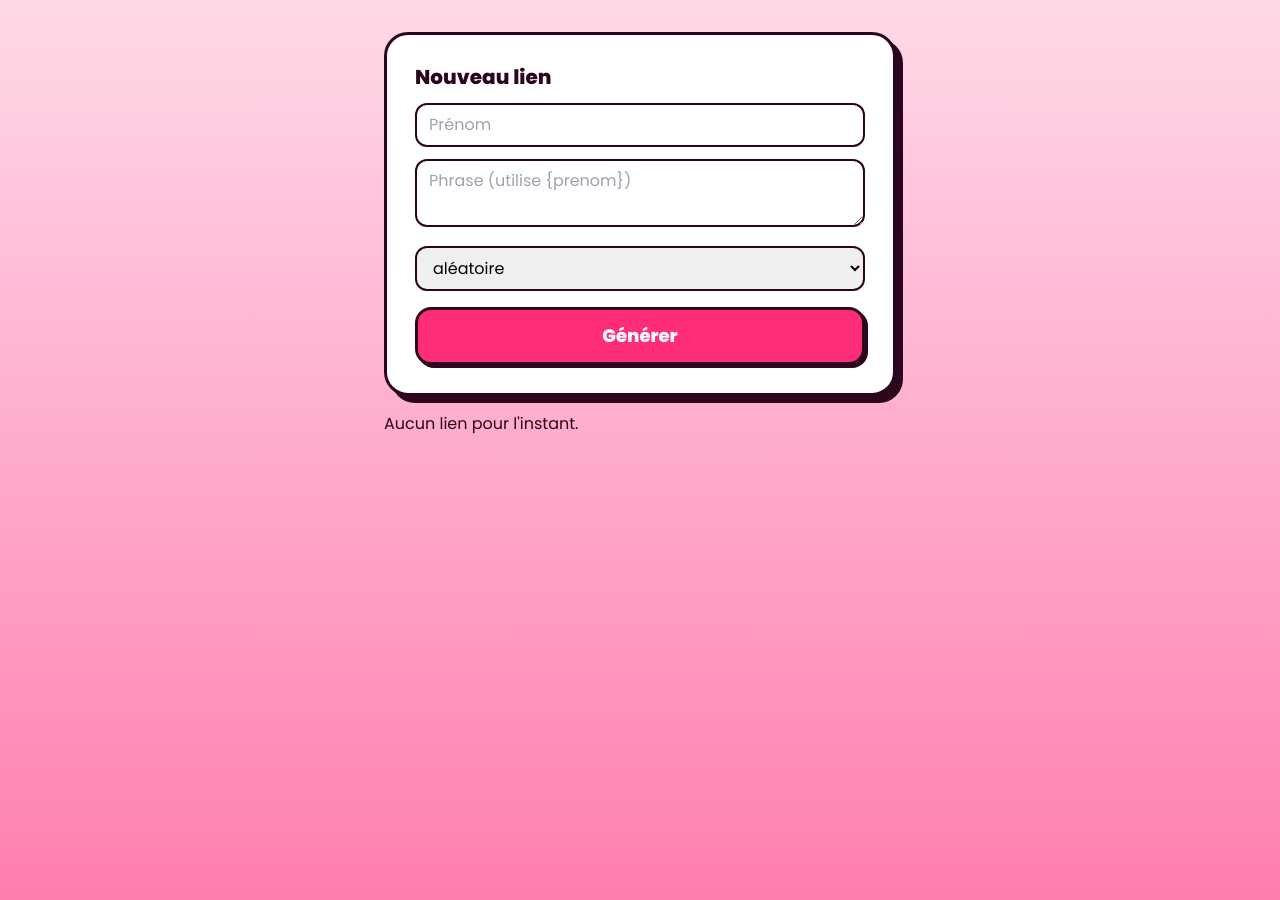
Test: AdminPage › creates a link and shows the copyable URL
This screenshot has width=1280, height=900.
Type "Lou" into the field labelled "Prénom" at point(640, 125), box [415,103,865,147]
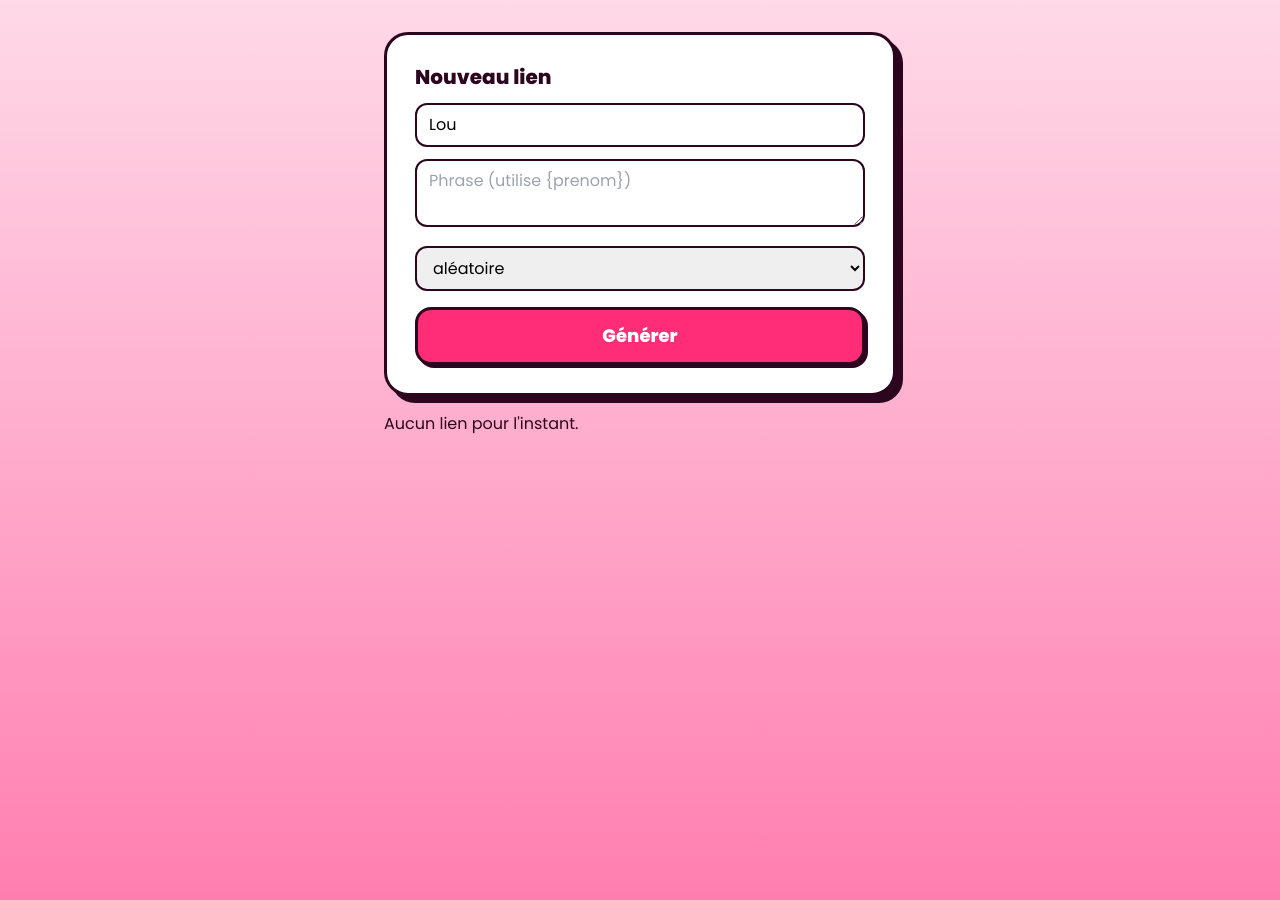
Click the button "Générer" at point(640, 336), box [415,307,865,365]
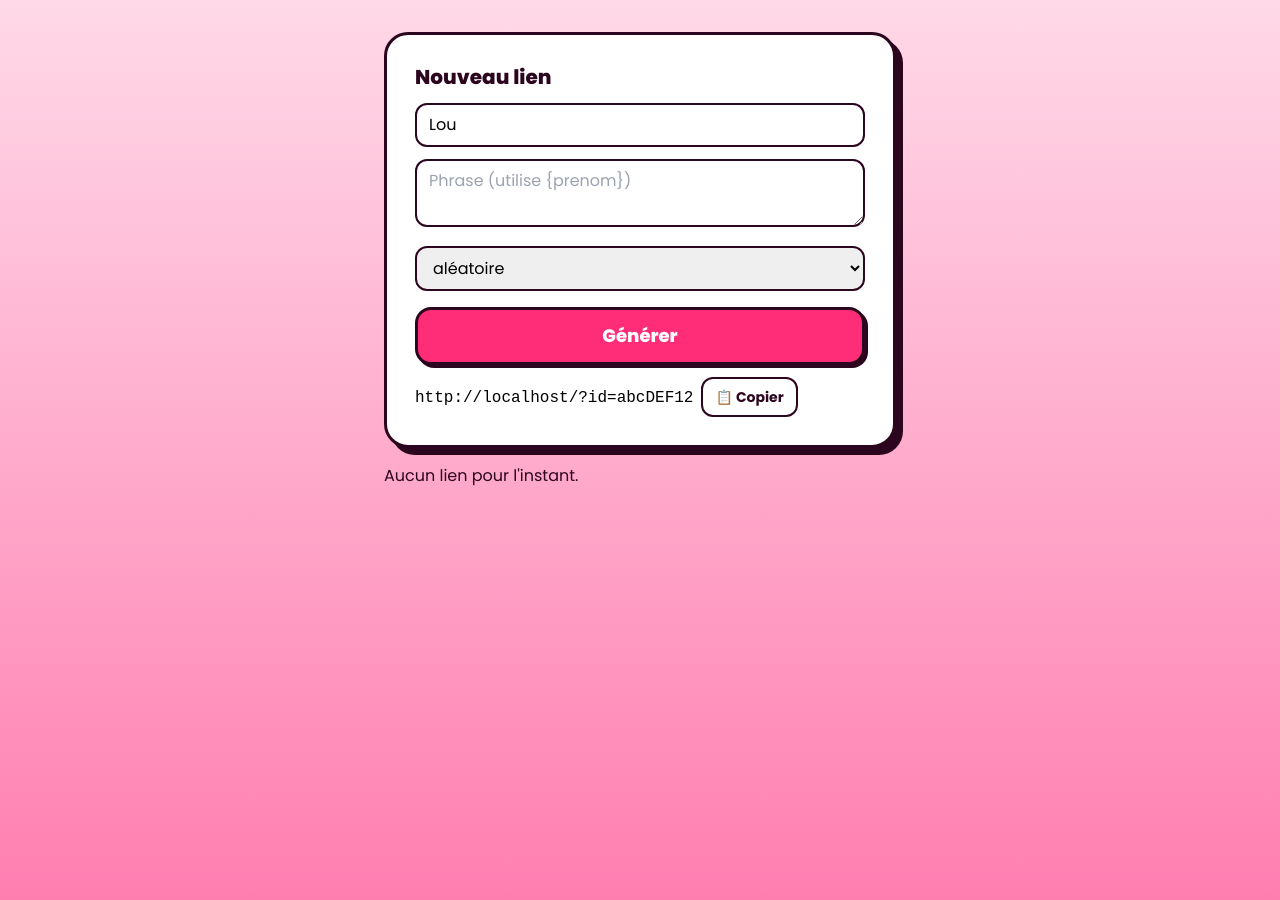
Now the text "/?id=abcDEF12" is shown, box [415,389,694,407]
